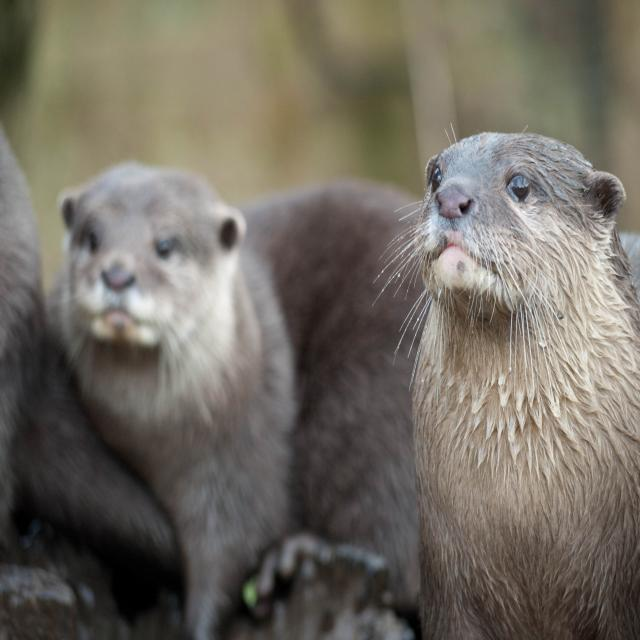otter: (56, 165, 426, 555), (411, 131, 640, 640)
